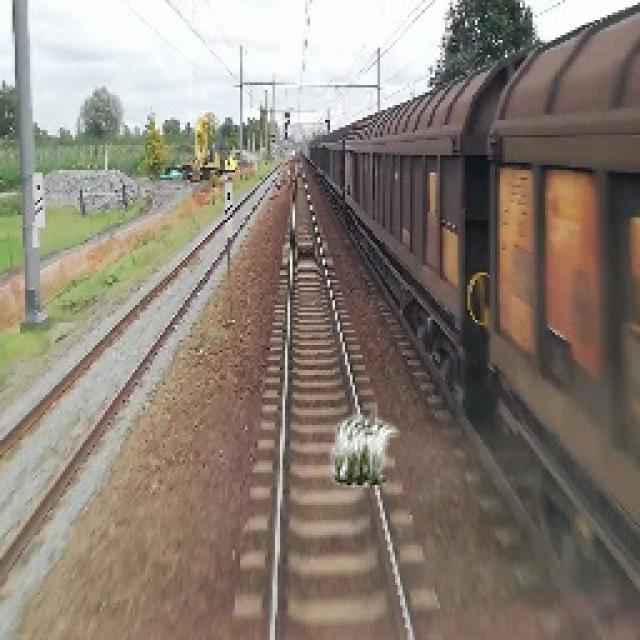danger: (331, 413, 400, 496)
rail: (226, 159, 453, 640)
